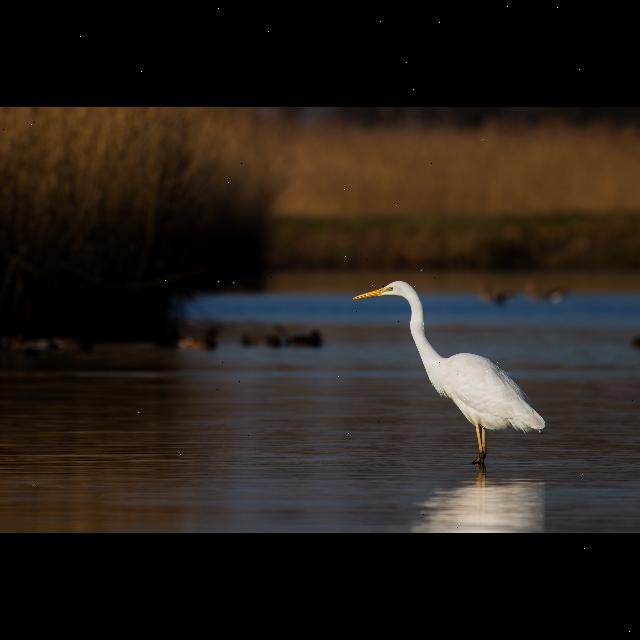egret: (353, 280, 545, 468)
